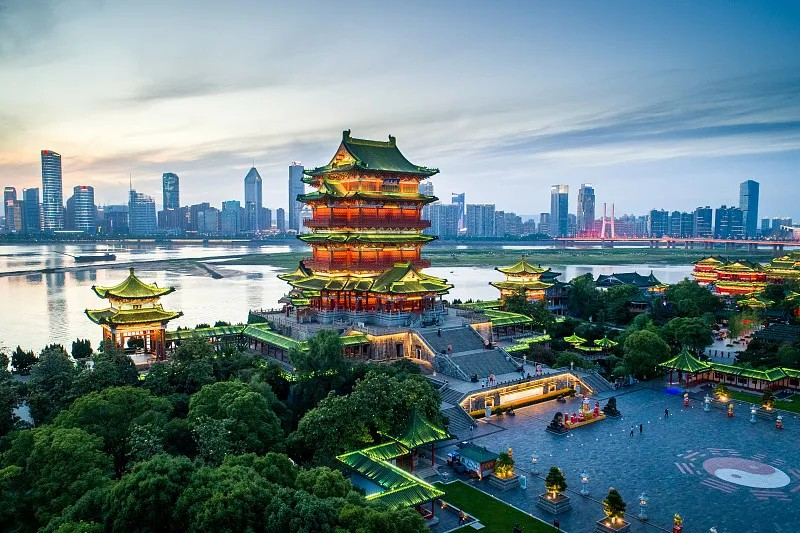Teng: (276, 129, 454, 319)
